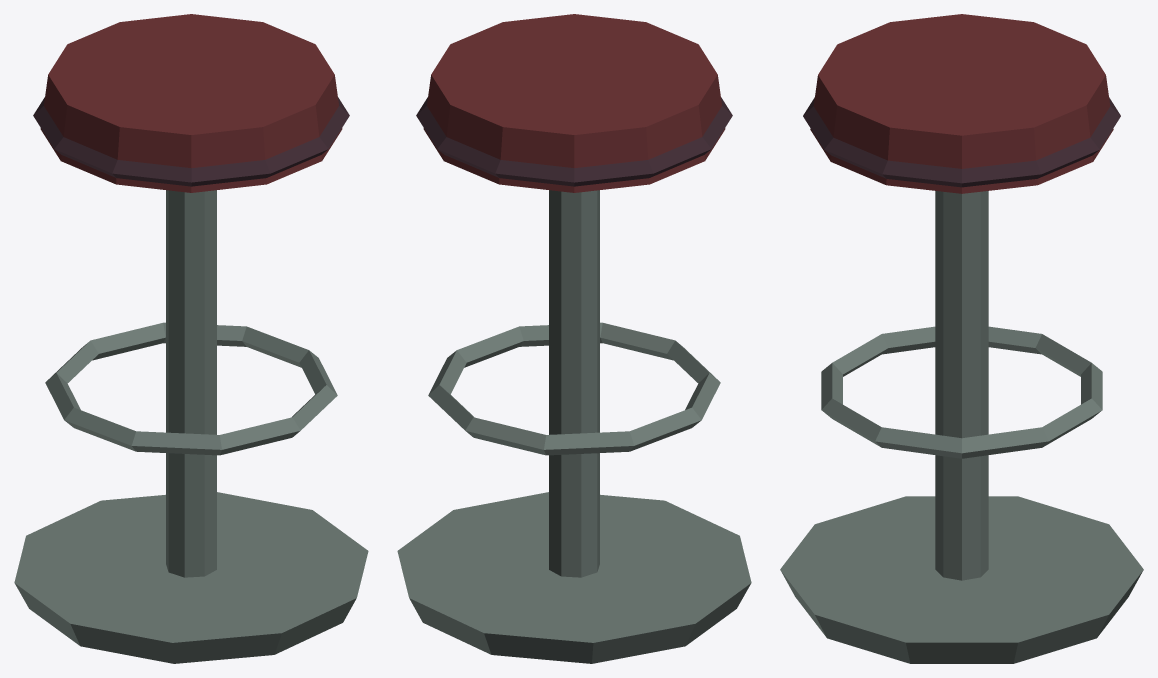
The model's file is scaun_bar.glb.
3 views of the same model, side by side, from view 1: azimuth 30°, elevation 25°; view 2: azimuth 150°, elevation 25°; view 3: azimuth 270°, elevation 25° (orthographic).
Visible parts, largest first — view 1: Scaun; view 2: Scaun; view 3: Scaun.
Part boxes in pixels (x1,y1,x2,y2): Scaun: [14, 14, 368, 663]; Scaun: [397, 14, 751, 663]; Scaun: [780, 14, 1143, 663].
Size of the model in its own units: 0.4565 by 0.76 by 0.48.
